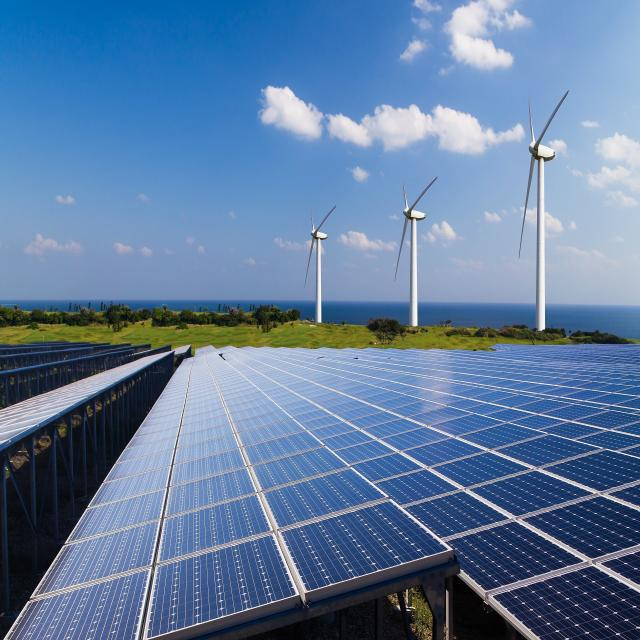clean-solar-panel: (10, 345, 640, 640)
